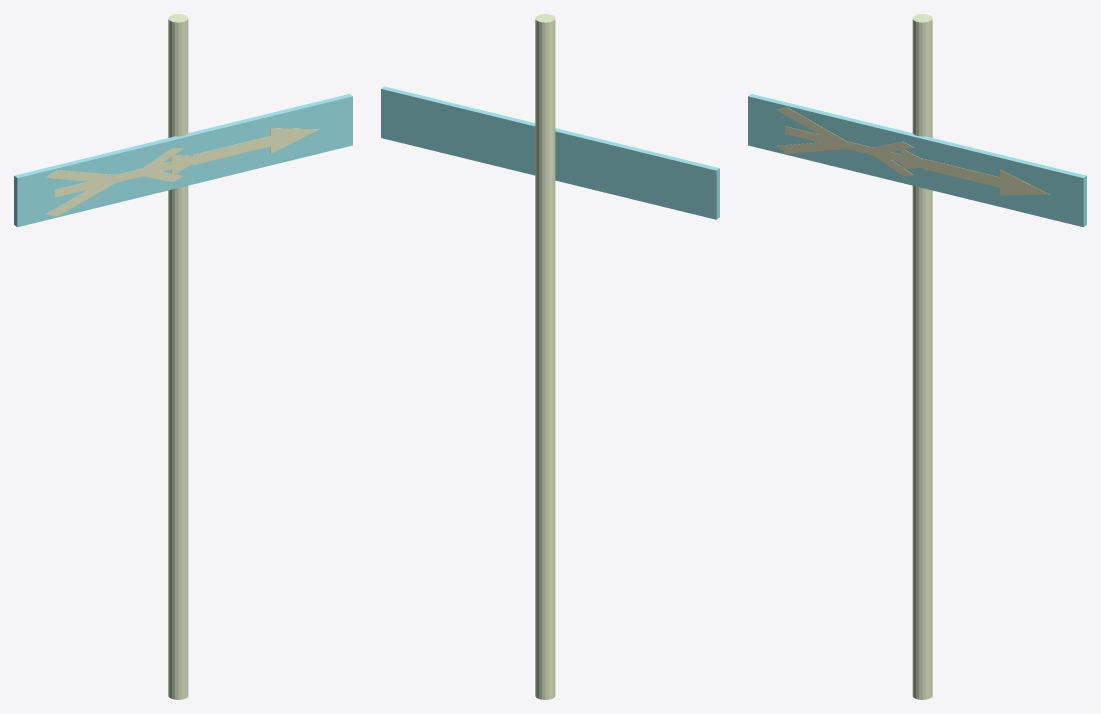
Rendered from sign_airport_arrow_right.glb.
3 renders of one model, left to right at view 1: azimuth 30°, elevation 25°; view 2: azimuth 150°, elevation 25°; view 3: azimuth 330°, elevation 25°, orthographic.
Parts seen in each view (by area): view 1: plate_base_00, pole, layer_1_00, layer_1_06, layer_1_07, layer_1_02; view 2: plate_base_00, pole; view 3: plate_base_00, pole, layer_1_00, layer_1_06, layer_1_07, layer_1_02, layer_1_03.
Boxes of the visible parts, left/top/right/bottom form: plate_base_00: left=14, top=94, right=352, bottom=227; pole: left=168, top=14, right=188, bottom=699; layer_1_00: left=54, top=157, right=188, bottom=197; layer_1_06: left=192, top=136, right=270, bottom=165; layer_1_07: left=270, top=128, right=319, bottom=153; layer_1_02: left=45, top=170, right=119, bottom=182; plate_base_00: left=381, top=86, right=719, bottom=219; pole: left=535, top=14, right=555, bottom=699; plate_base_00: left=748, top=94, right=1086, bottom=227; pole: left=912, top=14, right=932, bottom=699; layer_1_00: left=785, top=126, right=918, bottom=166; layer_1_06: left=922, top=158, right=1000, bottom=187; layer_1_07: left=1000, top=170, right=1049, bottom=195; layer_1_02: left=776, top=107, right=849, bottom=145; layer_1_03: left=776, top=142, right=849, bottom=153.
Bounding box in the file's own units: 1.14 × 2.2 × 0.071.
